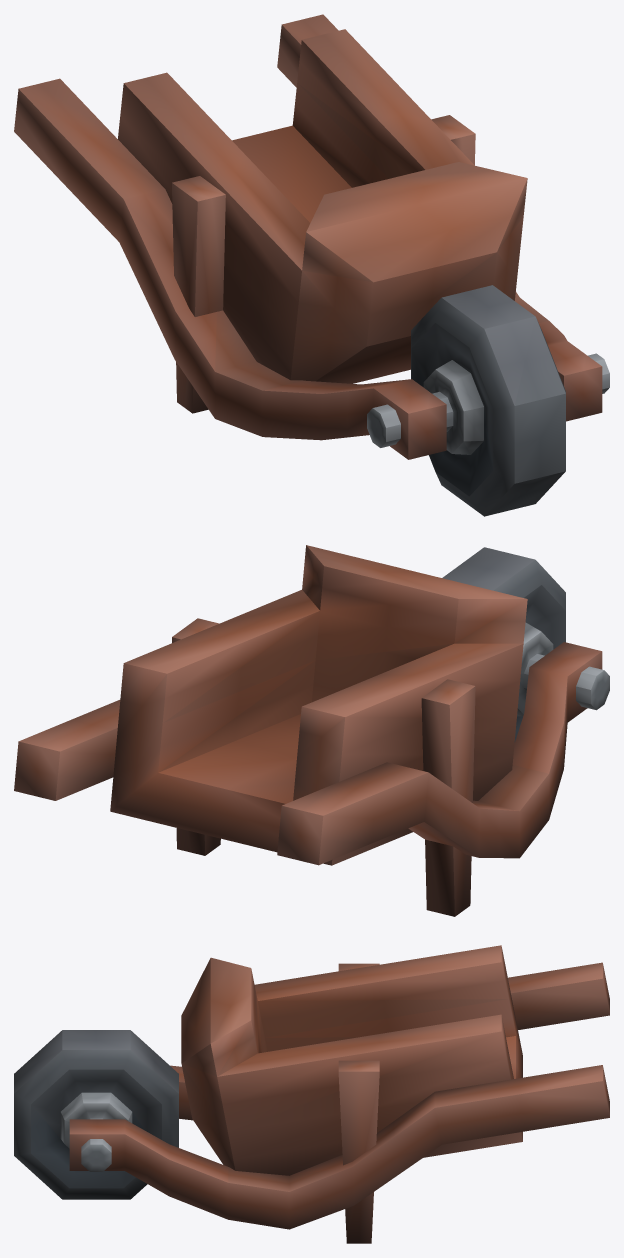
Rendered from prop_wheelbarrow.glb.
3 renders of one model, top to bottom at view 1: azimuth 30°, elevation 25°; view 2: azimuth 150°, elevation 25°; view 3: azimuth 270°, elevation 25°, orthographic. The views are drawn at different scales.
Visible parts, largest first — view 1: refined; view 2: refined; view 3: refined.
Part boxes in pixels (x1,y1,x2,y2): refined: (14, 14, 609, 516); refined: (14, 545, 609, 916); refined: (14, 945, 609, 1243).
Size of the model in its own units: 0.238 by 0.1884 by 0.5057.
